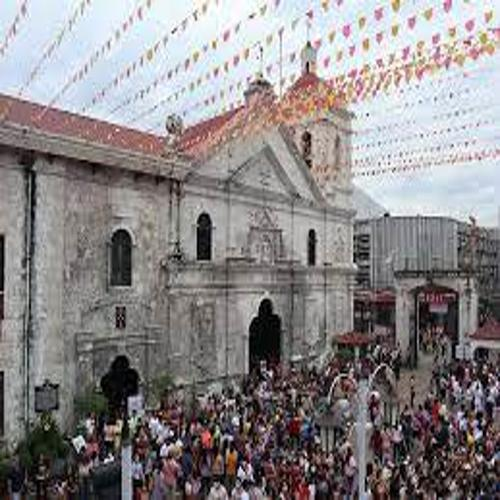Sto. Nino Basilica Church: (155, 13, 362, 400)
